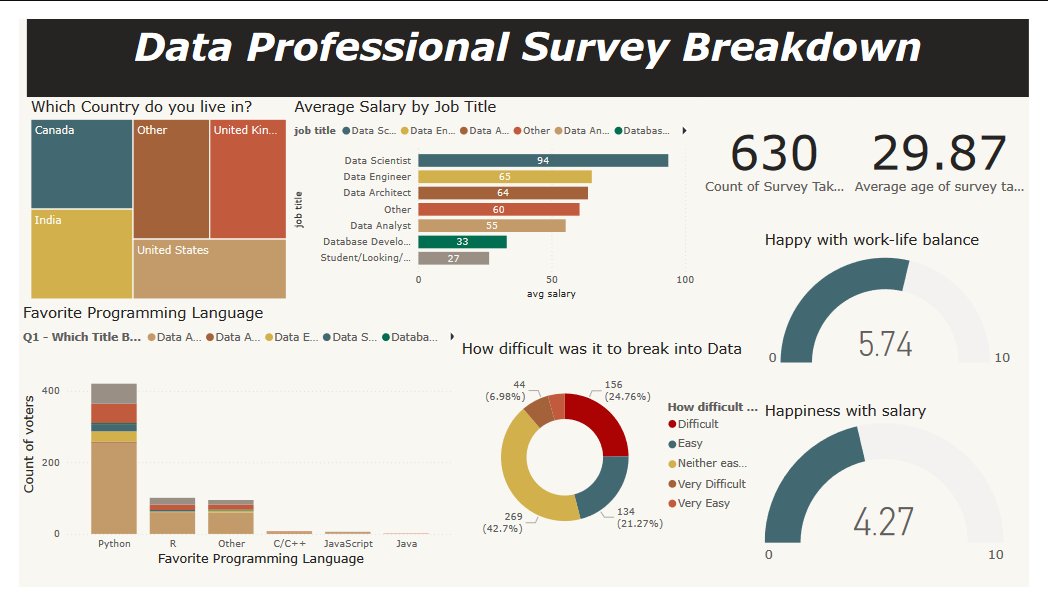

What the dashboard file says about the page in this screenshot:
{"tool":"powerbi","page":{"name":"Page 1","canvas":[1280,720],"ordinal":0},"visuals":[{"type":"textbox","box":[10.1,0,1269.9,99.1],"z":0},{"type":"card","fields":{"Values":["Count(Data Professional Survey.Unique ID)"]},"box":[861.7,99.1,191.5,151.2],"z":1000},{"type":"card","fields":{"Values":["Avg(Data Professional Survey.Q10 - Current Age)"]},"box":[1053.2,99.1,226.8,151.2],"z":2000},{"type":"barChart","title":"Average Salary by Job Title","fields":{"Category":["Data Professional Survey.Q1 - Which Title Best Fits your Current Role?.1"],"Y":["Avg(Data Professional Survey.avg salary)"],"Series":["Data Professional Survey.Q1 - Which Title Best Fits your Current Role?.1"]},"box":[344.2,99.4,517,260.6],"z":3000},{"type":"columnChart","title":"Favorite Programming Language","fields":{"Category":["Data Professional Survey.Q5 - Favorite Programming Language.1"],"Y":["CountNonNull(Data Professional Survey.Unique ID)"],"Series":["Data Professional Survey.Q1 - Which Title Best Fits your Current Role?.1"]},"box":[0,360,555.8,338.4],"z":4000},{"type":"treemap","title":"Which Country do you live in?","fields":{"Group":["Data Professional Survey.Q11 - Which Country do you live in?.1"],"Values":["Count(Data Professional Survey.Q11 - Which Country do you live in?.1)"]},"box":[10.1,99.4,334.1,260.6],"z":5000},{"type":"gauge","title":"Happy with work-life balance","fields":{"Y":["Avg(Data Professional Survey.Q6 - How Happy are you in your Current Position with the following? (Work/Life Balance))"],"MinValue":["Min(Data Professional Survey.Q6 - How Happy are you in your Current Position with the following? (Work/Life Balance))"],"MaxValue":["Max(Data Professional Survey.Q6 - How Happy are you in your Current Position with the following? (Work/Life Balance))1"]},"box":[940.3,267.8,325.4,184.3],"z":6000},{"type":"gauge","title":"Happiness with salary","fields":{"Y":["Avg(Data Professional Survey.Q6 - How Happy are you in your Current Position with the following? (Salary))"],"MinValue":["Min(Data Professional Survey.Q6 - How Happy are you in your Current Position with the following? (Salary))"],"MaxValue":["Max(Data Professional Survey.Q6 - How Happy are you in your Current Position with the following? (Salary))"]},"box":[940.3,483.8,312.5,214.6],"z":7000},{"type":"donutChart","title":"How difficult was it to break into Data","fields":{"Y":["CountNonNull(Data Professional Survey.Q7 - How difficult was it for you to break into Data?)"],"Series":["Data Professional Survey.Q7 - How difficult was it for you to break into Data?"]},"box":[555.8,404.6,384.5,277.9],"z":8000}]}

Visuals, with their boxes in screenshot pixels (x1, y1, x2, y2), scaled from the page's 1280x720 canvas onto the 1048x606 screenshot:
textbox: {"left": 8, "top": 0, "right": 1047, "bottom": 83}
card - Count(Data Professional Survey.Unique ID): {"left": 706, "top": 83, "right": 862, "bottom": 211}
card - Avg(Data Professional Survey.Q10 - Current Age): {"left": 862, "top": 83, "right": 1047, "bottom": 211}
"Average Salary by Job Title" barChart: {"left": 282, "top": 84, "right": 705, "bottom": 303}
"Favorite Programming Language" columnChart: {"left": 0, "top": 303, "right": 455, "bottom": 588}
"Which Country do you live in?" treemap: {"left": 8, "top": 84, "right": 282, "bottom": 303}
"Happy with work-life balance" gauge: {"left": 770, "top": 225, "right": 1036, "bottom": 381}
"Happiness with salary" gauge: {"left": 770, "top": 407, "right": 1026, "bottom": 588}
"How difficult was it to break into Data" donutChart: {"left": 455, "top": 341, "right": 770, "bottom": 574}
